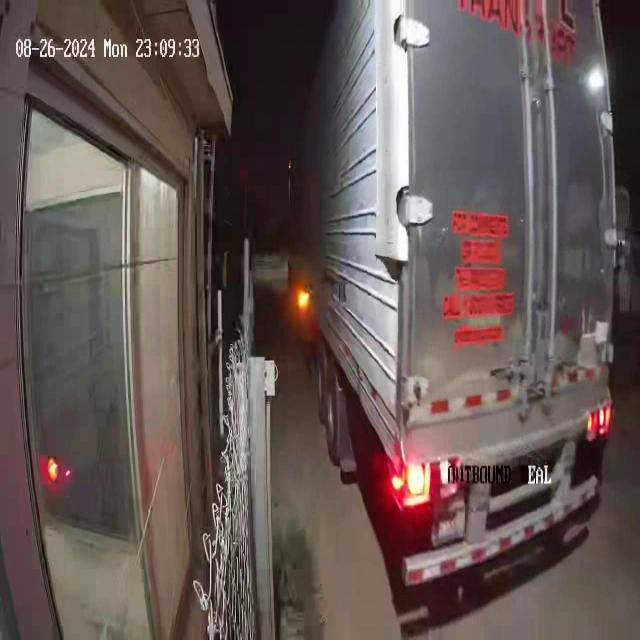TRUCK_OUT: (297, 1, 619, 589)
